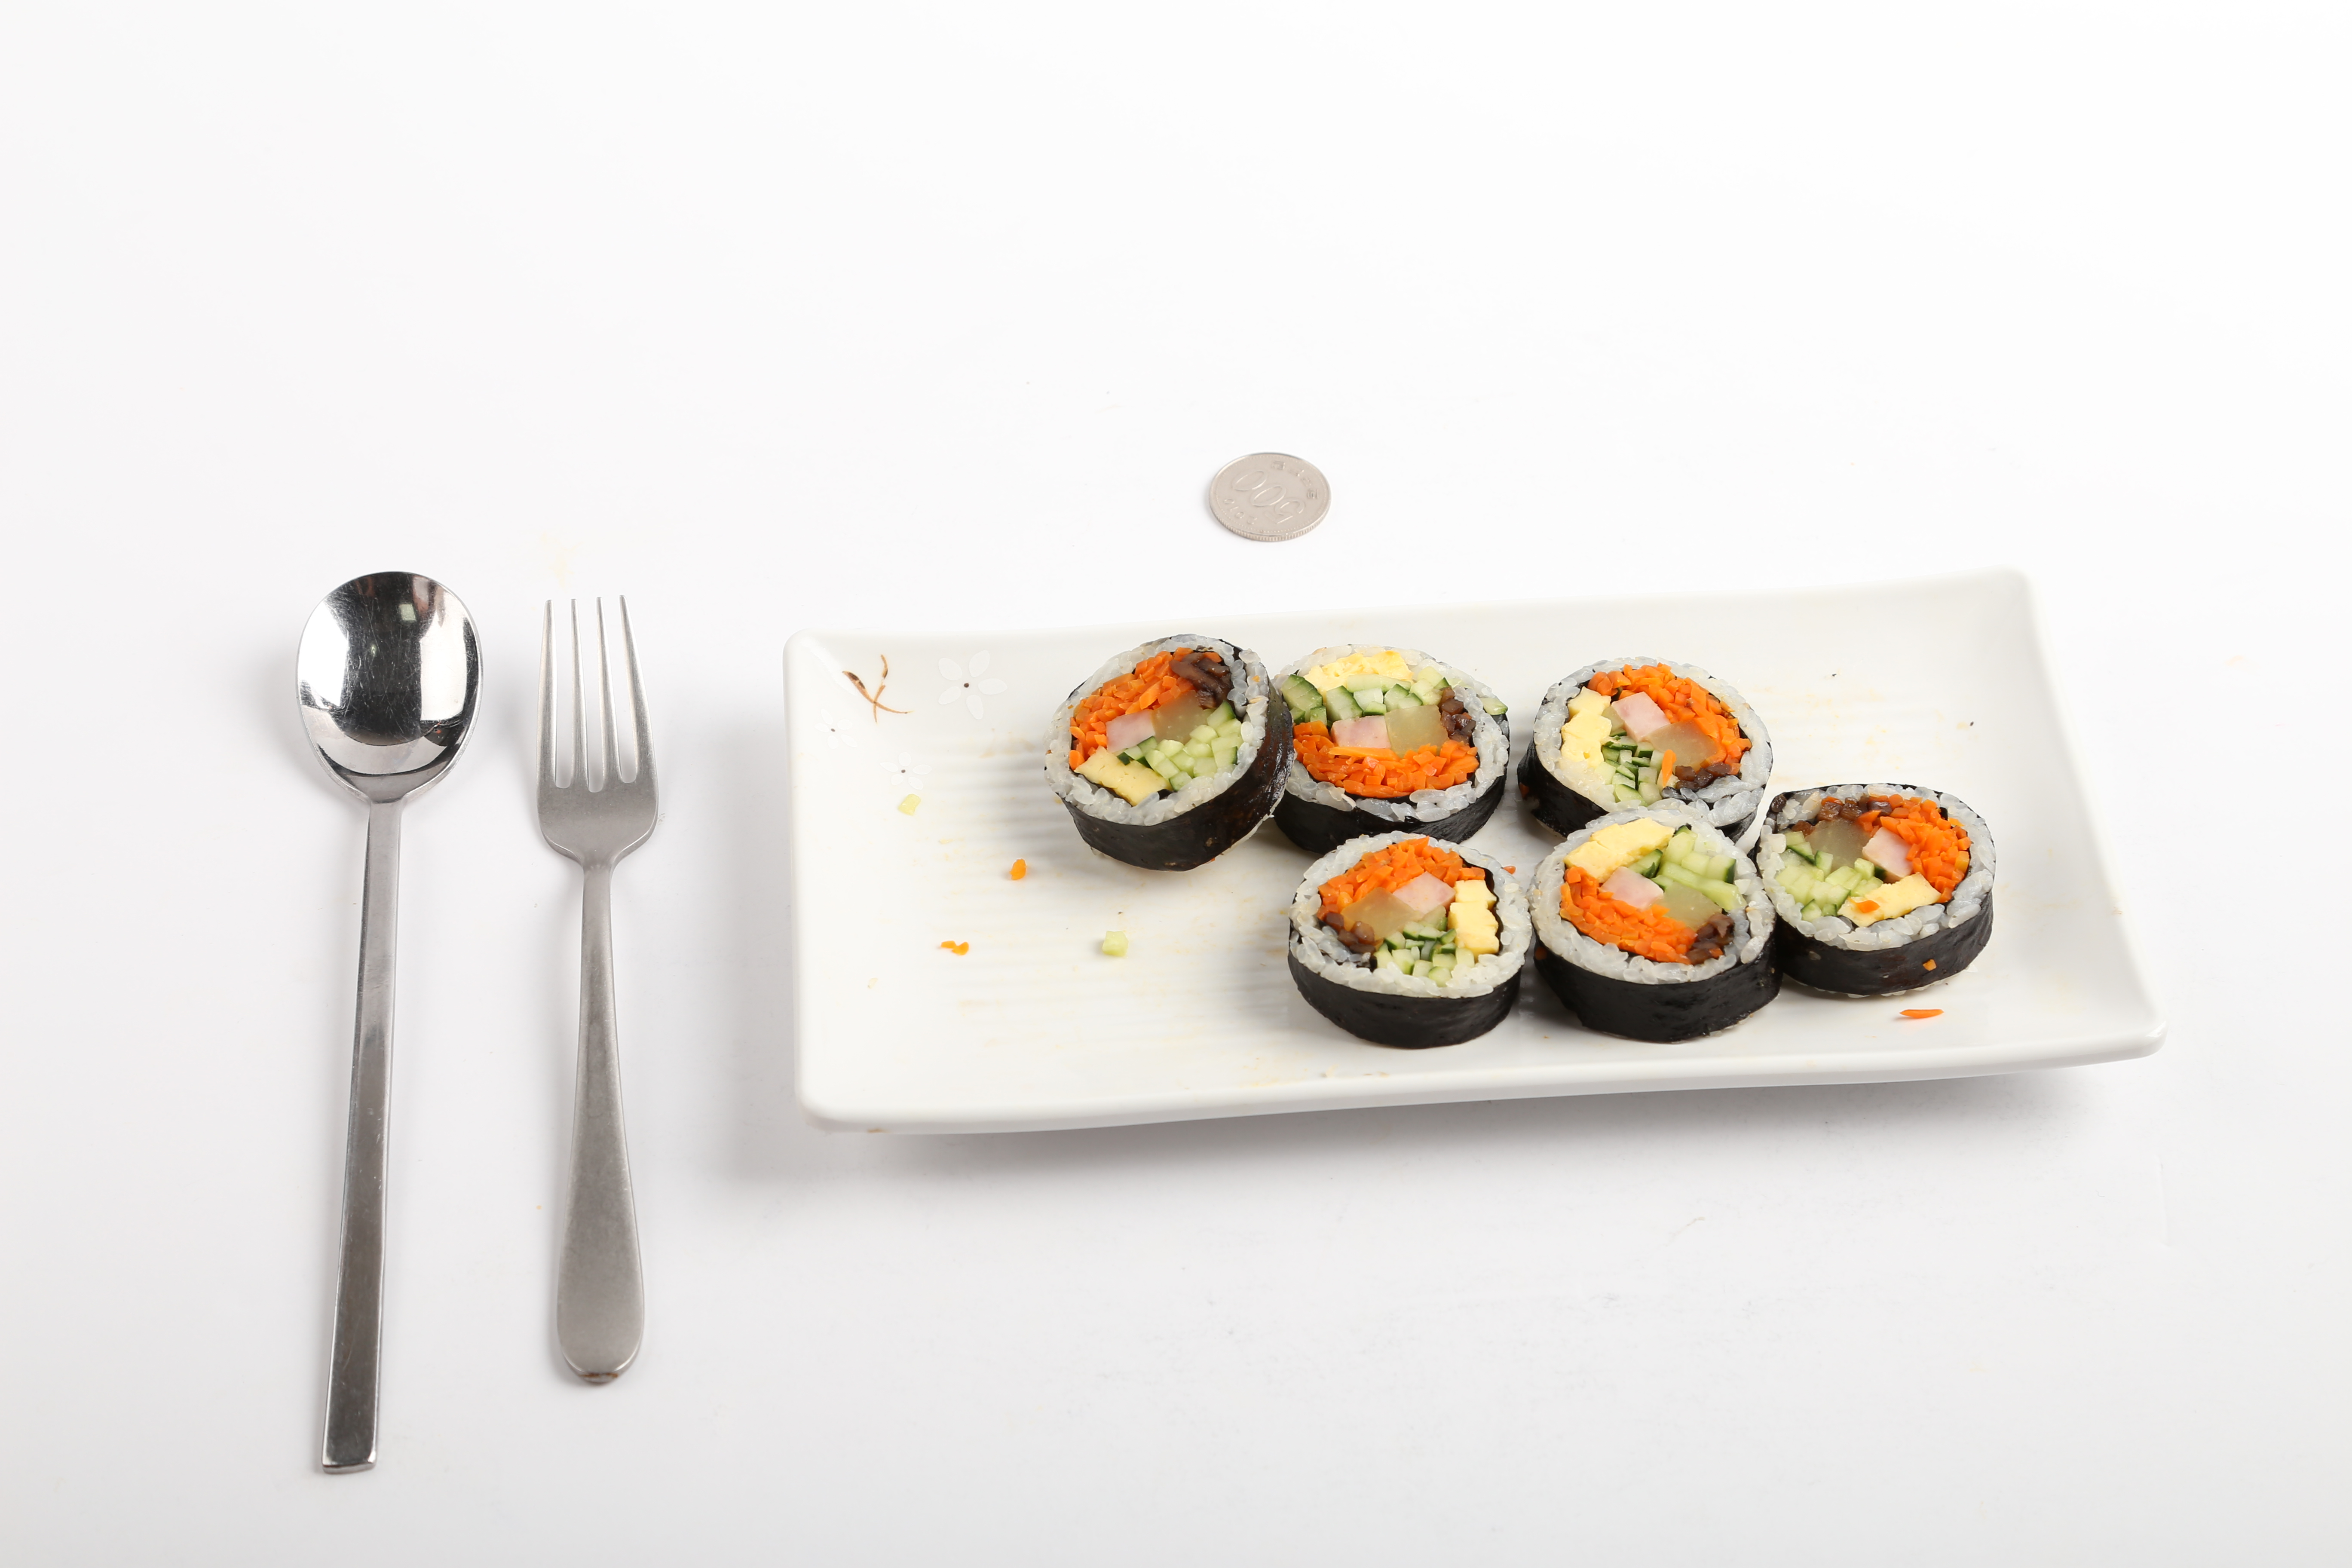dish: (784, 558, 2165, 1137)
ref_coin: (1193, 437, 1339, 551)
ref_fork: (527, 597, 661, 943)
ref_spoon: (294, 565, 485, 870)
김밥: (1045, 625, 1995, 1052)
